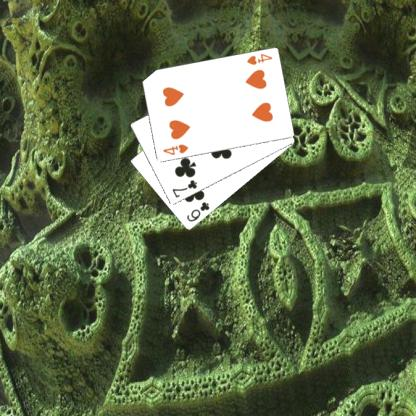4H: (160, 141, 189, 157), (244, 51, 273, 67)
6C: (184, 200, 211, 224)
7C: (169, 177, 198, 199)
